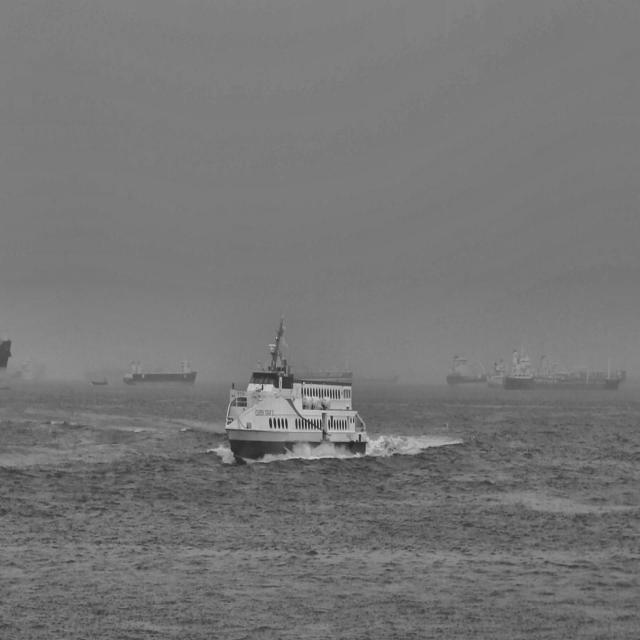ship: (223, 308, 370, 466), (502, 346, 622, 390), (122, 360, 197, 385), (445, 346, 488, 388), (9, 354, 45, 382), (0, 336, 14, 394), (489, 353, 506, 388), (91, 372, 109, 390)
